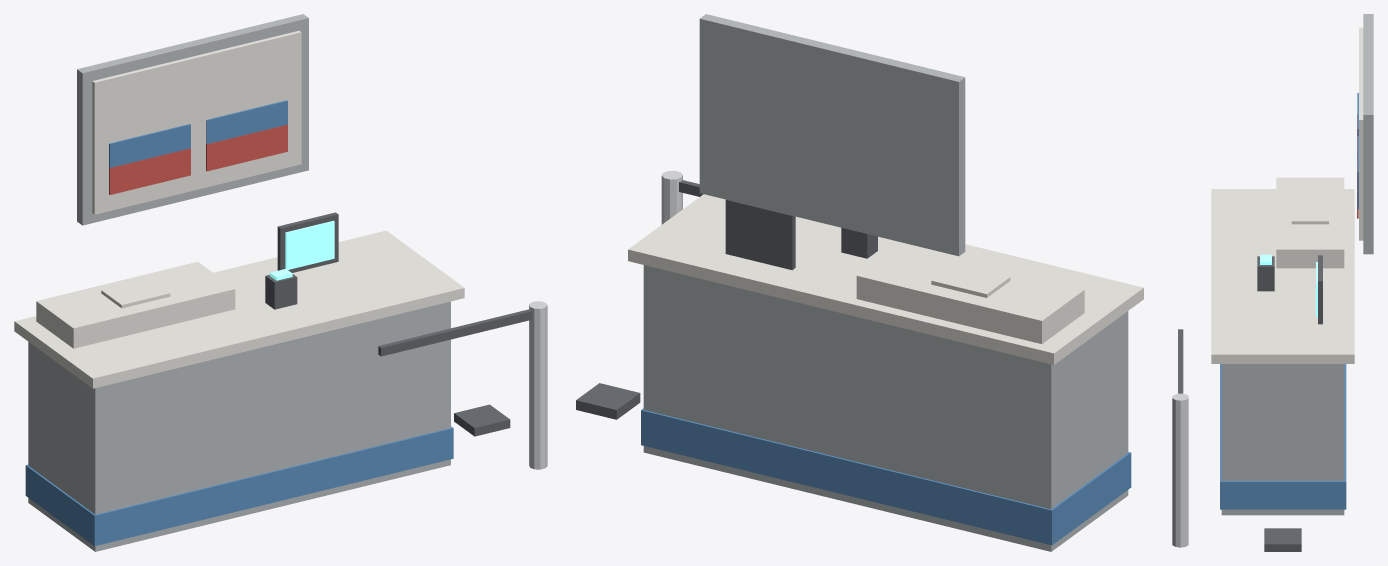
Rendered from parcel-depot-and-sorting-hall-parcel-depot-and-sorting-83979c04.glb.
The picture shows the model from 3 angles, left to right: view 1: azimuth 30°, elevation 25°; view 2: azimuth 150°, elevation 25°; view 3: azimuth 270°, elevation 25°; orthographic projection. The views are drawn at different scales.
Parts seen in each view (by area): view 1: parcel-depot-and-sorting-hall-driver-check-in-counter; view 2: parcel-depot-and-sorting-hall-driver-check-in-counter; view 3: parcel-depot-and-sorting-hall-driver-check-in-counter.
Boxes of the visible parts, left/top/right/bottom form: parcel-depot-and-sorting-hall-driver-check-in-counter: left=14, top=14, right=547, bottom=551; parcel-depot-and-sorting-hall-driver-check-in-counter: left=576, top=14, right=1143, bottom=551; parcel-depot-and-sorting-hall-driver-check-in-counter: left=1172, top=14, right=1373, bottom=551.
Size of the model in its own units: 2.76 by 2.4 by 1.18.
